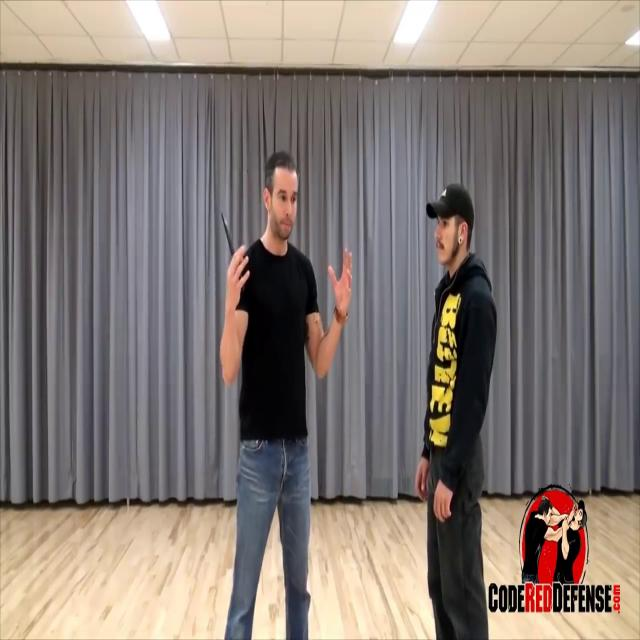Knife_Handle: (222, 211, 250, 306)
